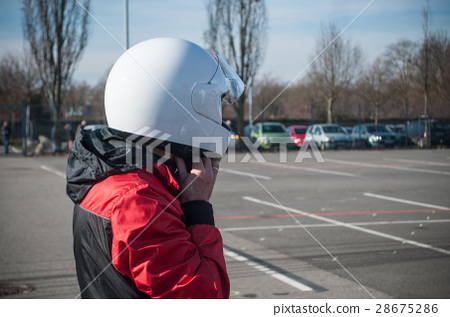helmet: (96, 37, 247, 163)
